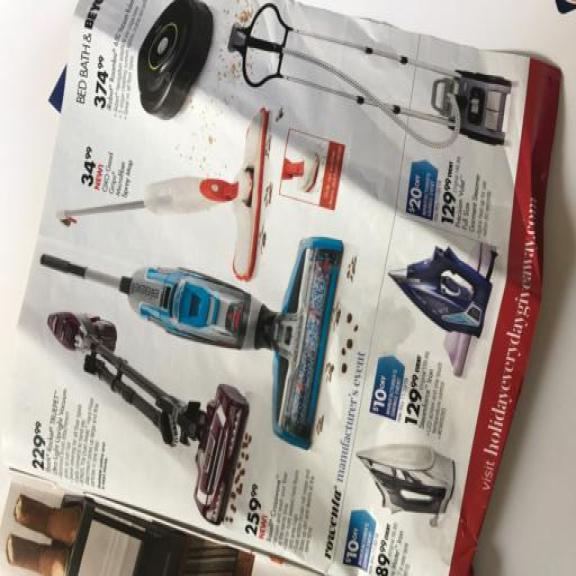Kertas: (8, 0, 563, 576)
